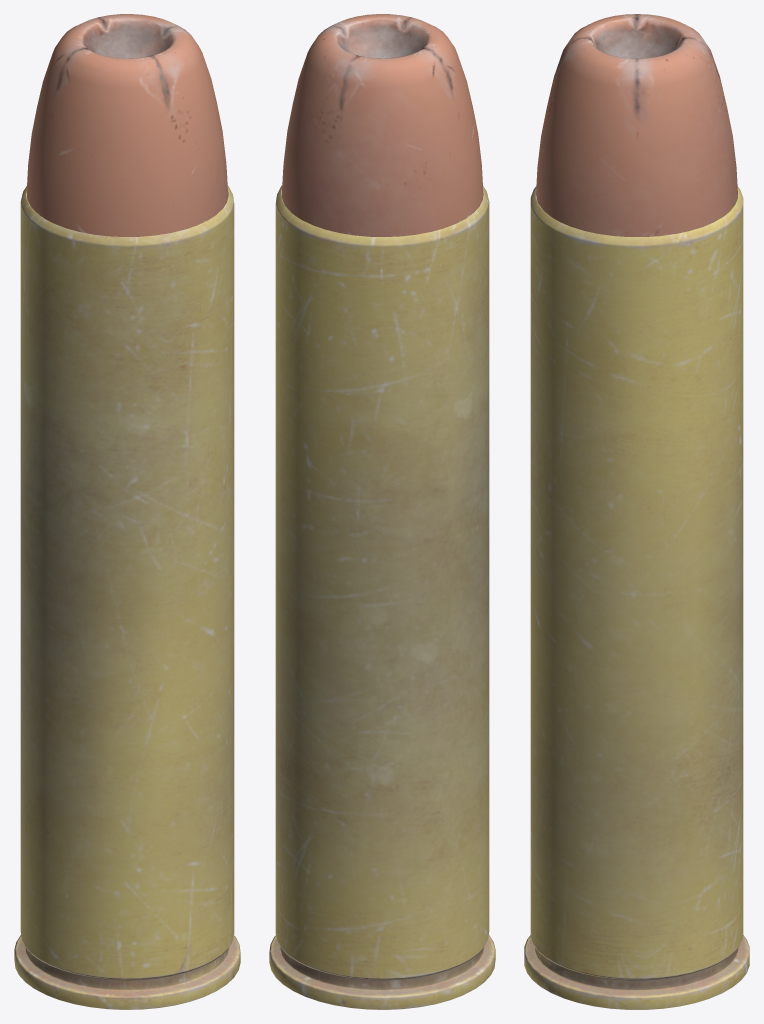
File: BulletUI.fbx
3 renders of one model, left to right at view 1: azimuth 30°, elevation 25°; view 2: azimuth 150°, elevation 25°; view 3: azimuth 270°, elevation 25°, orthographic.
Visible parts, largest first — view 1: LOD_1_Group_0_Sub_1__m000; view 2: LOD_1_Group_0_Sub_1__m000; view 3: LOD_1_Group_0_Sub_1__m000.
Part boxes in pixels (x1=…): LOD_1_Group_0_Sub_1__m000: x1=14, y1=14, x2=240, y2=1009; LOD_1_Group_0_Sub_1__m000: x1=269, y1=14, x2=495, y2=1009; LOD_1_Group_0_Sub_1__m000: x1=524, y1=14, x2=749, y2=1009.
Bounding box in the file's own units: 5.07 × 22.92 × 5.07.
